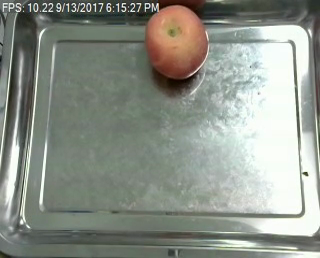Apple: (143, 1, 210, 84)
